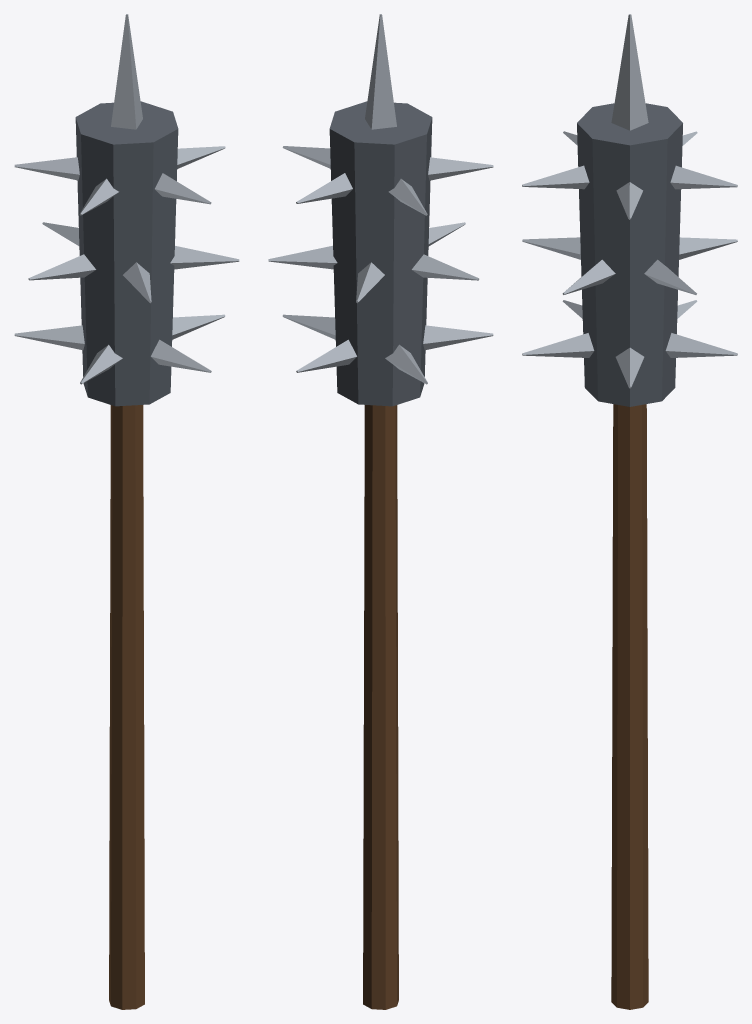
Rendered from g-morningstar-rod.glb.
3 views of the same model, side by side, from view 1: azimuth 30°, elevation 25°; view 2: azimuth 150°, elevation 25°; view 3: azimuth 270°, elevation 25° (orthographic).
Parts seen in each view (by area): view 1: g-morningstar-rod; view 2: g-morningstar-rod; view 3: g-morningstar-rod.
Part boxes in pixels (x1=…): g-morningstar-rod: x1=14, y1=14, x2=239, y2=1009; g-morningstar-rod: x1=268, y1=14, x2=493, y2=1009; g-morningstar-rod: x1=522, y1=14, x2=737, y2=1009.
Bounding box in the file's own units: 0.17 × 0.82 × 0.1624.
